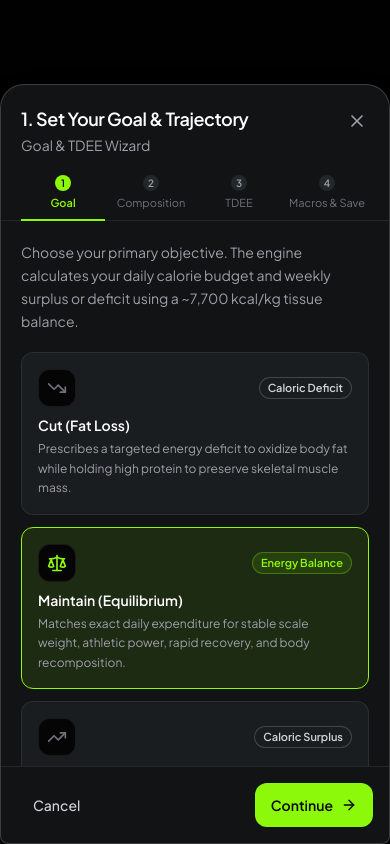
Test: NutritionGoalWizard: sex selection matches the stored value › the placeholder disappears once a supported value is chosen, and progress resumes
Click the button "Continue".
click(314, 805)  # box [255,783,373,827]
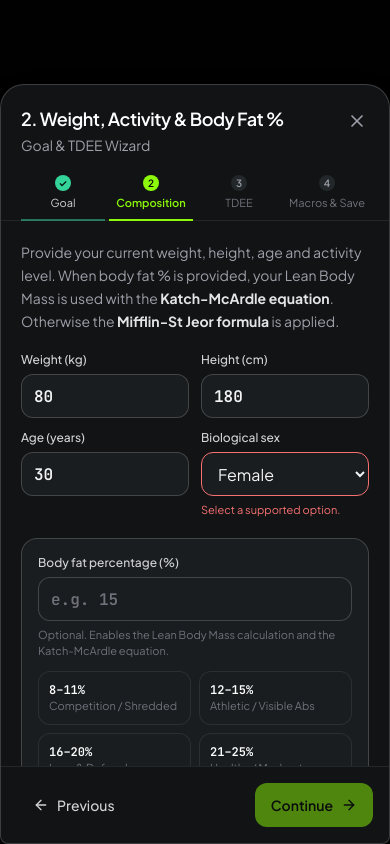
Select "Female" in the dropdown named "Biological Sex" at (285, 474), box [201,452,369,496]
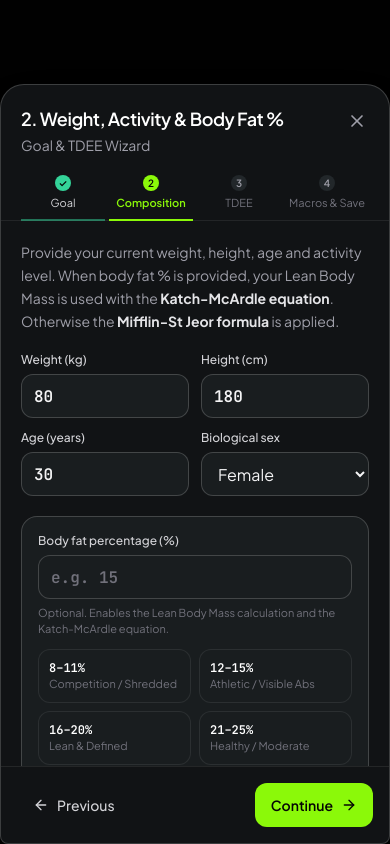
Result: the button "Continue" is enabled at [255,783,373,827]
